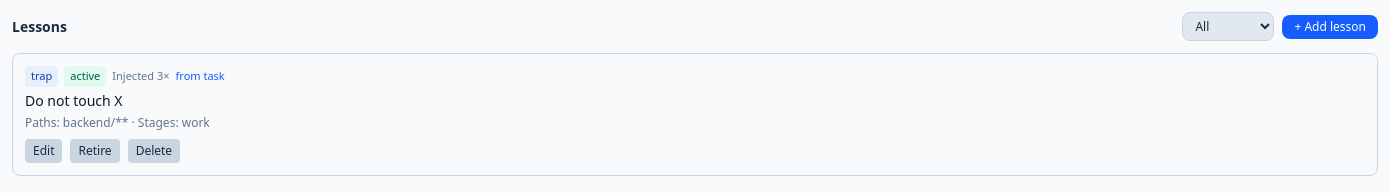
LessonsPanel › requires confirmation to delete
The width and height of the screenshot is (1390, 193).
Check: the text "Do not touch X" is shown, box [25,90,122,110]
Click the button "Delete": (154, 150) [128,138,180,162]
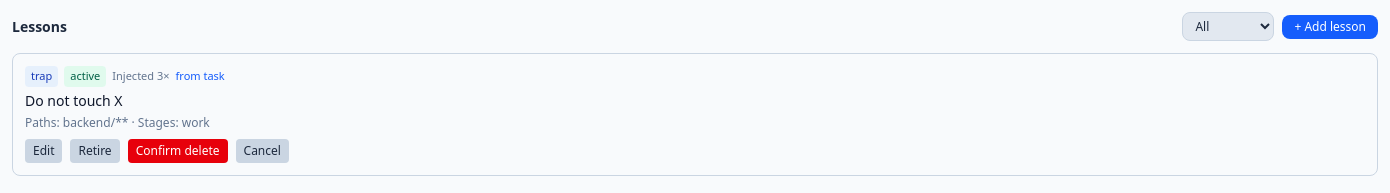
Click the button "Confirm delete": (178, 150) [128,138,228,162]
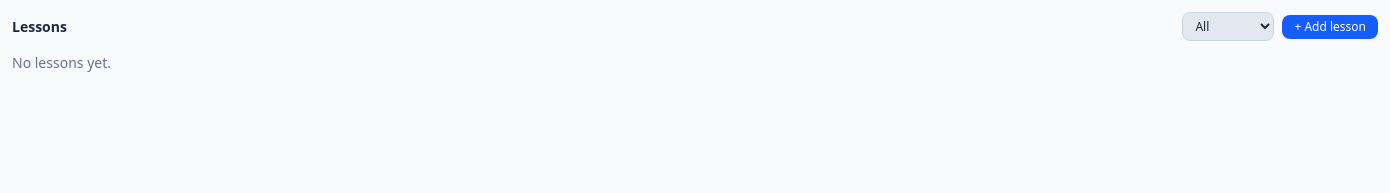
Check: the text "Do not touch X" is gone
